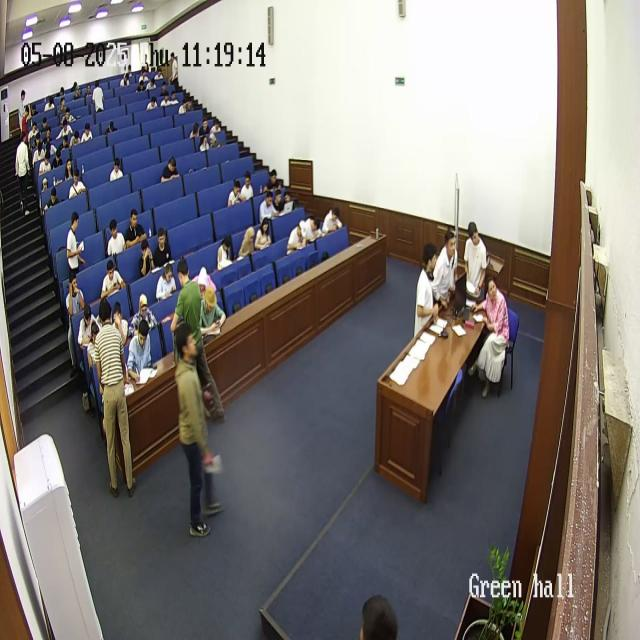person: (172, 324, 220, 535), (91, 298, 137, 496), (173, 258, 225, 418), (464, 273, 510, 395), (414, 241, 442, 339), (430, 228, 458, 308), (462, 220, 488, 303), (66, 271, 86, 367), (126, 319, 154, 381), (360, 595, 397, 640), (130, 292, 158, 341), (14, 130, 30, 215), (66, 212, 86, 279), (200, 285, 226, 335), (101, 260, 125, 300), (151, 229, 173, 271), (125, 208, 147, 247), (156, 262, 178, 300), (286, 219, 308, 255), (106, 219, 126, 257), (236, 225, 256, 262), (79, 302, 96, 344), (299, 212, 321, 244), (320, 206, 342, 237), (138, 240, 155, 280), (216, 233, 234, 270), (259, 187, 278, 222), (254, 217, 272, 252), (69, 166, 87, 198), (162, 155, 180, 184), (92, 83, 106, 113), (240, 170, 253, 202), (108, 156, 124, 182), (228, 179, 242, 207), (263, 171, 282, 190), (18, 87, 26, 130), (284, 186, 296, 213), (22, 106, 29, 146), (82, 118, 93, 143), (146, 95, 160, 114), (34, 140, 46, 162), (273, 187, 284, 210), (172, 50, 178, 90), (41, 152, 51, 175), (208, 133, 220, 152), (61, 107, 76, 122), (210, 110, 222, 128), (66, 158, 74, 184), (69, 130, 82, 146), (57, 120, 74, 132), (48, 188, 58, 208), (43, 100, 57, 114), (122, 74, 132, 93), (52, 150, 62, 168), (135, 79, 148, 92), (187, 124, 198, 139), (45, 139, 54, 157), (177, 100, 187, 116), (200, 134, 209, 151), (44, 122, 52, 140), (84, 84, 94, 98), (200, 115, 208, 132), (59, 135, 68, 150), (29, 121, 38, 136), (106, 120, 117, 132), (148, 78, 157, 92), (170, 88, 177, 103), (155, 66, 162, 81), (186, 98, 192, 115), (40, 176, 48, 188), (161, 90, 167, 106), (40, 116, 48, 128), (72, 89, 82, 98), (59, 98, 67, 109)
